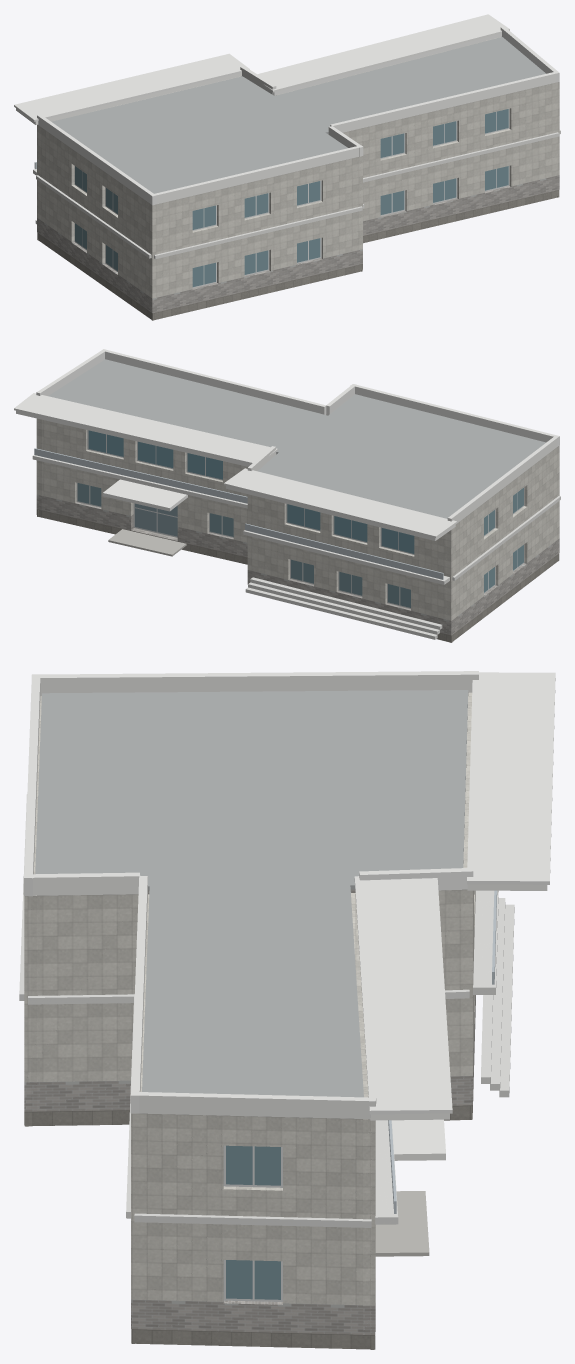
3 views of the same model, one above another, from view 1: azimuth 30°, elevation 25°; view 2: azimuth 150°, elevation 25°; view 3: azimuth 270°, elevation 25° (orthographic). The views are drawn at different scales.
Parts seen in each view (by area): view 1: pitch-annex__stone, pitch-annex__roof, pitch-annex__cap, pitch-annex__brick, pitch-annex__glass, pitch-annex__plinth, pitch-annex__trim, pitch-annex__canopy, pitch-annex__frame, pitch-annex__foundation; view 2: pitch-annex__roof, pitch-annex__stone, pitch-annex__cap, pitch-annex__trim, pitch-annex__brick, pitch-annex__curtainglass, pitch-annex__canopy, pitch-annex__railing, pitch-annex__glass, pitch-annex__plinth, pitch-annex__frame, pitch-annex__threshold-main (+2 smaller); view 3: pitch-annex__roof, pitch-annex__stone, pitch-annex__cap, pitch-annex__trim, pitch-annex__brick, pitch-annex__plinth, pitch-annex__glass, pitch-annex__canopy, pitch-annex__threshold-main, pitch-annex__foundation, pitch-annex__frame.
Part boxes in pixels (x1=…): pitch-annex__stone: x1=37, y1=37, x2=559, y2=298; pitch-annex__roof: x1=51, y1=37, x2=545, y2=193; pitch-annex__cap: x1=14, y1=14, x2=559, y2=205; pitch-annex__brick: x1=37, y1=175, x2=559, y2=313; pitch-annex__glass: x1=75, y1=109, x2=508, y2=286; pitch-annex__plinth: x1=38, y1=190, x2=559, y2=318; pitch-annex__trim: x1=33, y1=130, x2=560, y2=259; pitch-annex__canopy: x1=16, y1=33, x2=501, y2=124; pitch-annex__frame: x1=74, y1=108, x2=509, y2=287; pitch-annex__foundation: x1=37, y1=195, x2=559, y2=320; pitch-annex__roof: x1=48, y1=359, x2=545, y2=518; pitch-annex__stone: x1=36, y1=414, x2=559, y2=620; pitch-annex__cap: x1=14, y1=349, x2=559, y2=537; pitch-annex__trim: x1=32, y1=455, x2=560, y2=639; pitch-annex__brick: x1=36, y1=494, x2=559, y2=635; pitch-annex__curtainglass: x1=88, y1=430, x2=414, y2=553; pitch-annex__canopy: x1=16, y1=410, x2=455, y2=540; pitch-annex__railing: x1=34, y1=448, x2=443, y2=579; pitch-annex__glass: x1=77, y1=483, x2=523, y2=607; pitch-annex__plinth: x1=36, y1=509, x2=559, y2=640; pitch-annex__frame: x1=76, y1=430, x2=524, y2=608; pitch-annex__threshold-main: x1=108, y1=529, x2=186, y2=556; pitch-annex__roof: x1=35, y1=690, x2=468, y2=1097; pitch-annex__stone: x1=24, y1=692, x2=475, y2=1305; pitch-annex__cap: x1=23, y1=671, x2=555, y2=1119; pitch-annex__trim: x1=19, y1=794, x2=514, y2=1227; pitch-annex__brick: x1=24, y1=889, x2=475, y2=1334; pitch-annex__plinth: x1=24, y1=1105, x2=472, y2=1346; pitch-annex__glass: x1=226, y1=1145, x2=280, y2=1299; pitch-annex__canopy: x1=370, y1=884, x2=547, y2=1160; pitch-annex__threshold-main: x1=375, y1=1191, x2=429, y2=1256; pitch-annex__foundation: x1=24, y1=1112, x2=472, y2=1349; pitch-annex__frame: x1=223, y1=1145, x2=282, y2=1301.
Size of the model in its own units: 31.3 by 8.28 by 16.18.
15 materials, 5 textured.
